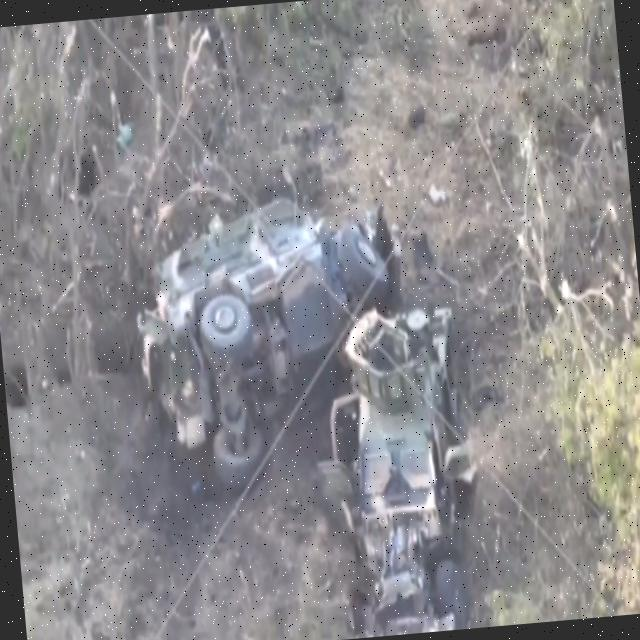Destroyed: (132, 179, 398, 495), (332, 305, 488, 637)
